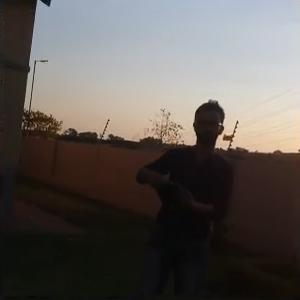follow: (132, 91, 243, 298)
